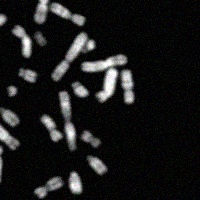chromosome: (51, 32, 86, 80), (59, 91, 76, 150), (94, 68, 117, 104), (51, 2, 84, 25), (81, 55, 126, 70), (12, 25, 32, 57), (34, 176, 63, 198), (0, 121, 20, 151), (41, 115, 62, 142), (121, 69, 134, 103), (33, 0, 52, 22), (0, 105, 19, 126), (87, 155, 106, 174), (68, 171, 81, 194), (81, 130, 100, 145), (18, 67, 36, 82), (71, 81, 88, 96), (81, 40, 95, 53), (34, 32, 47, 46), (7, 86, 16, 96), (0, 14, 6, 28), (0, 146, 2, 184)
